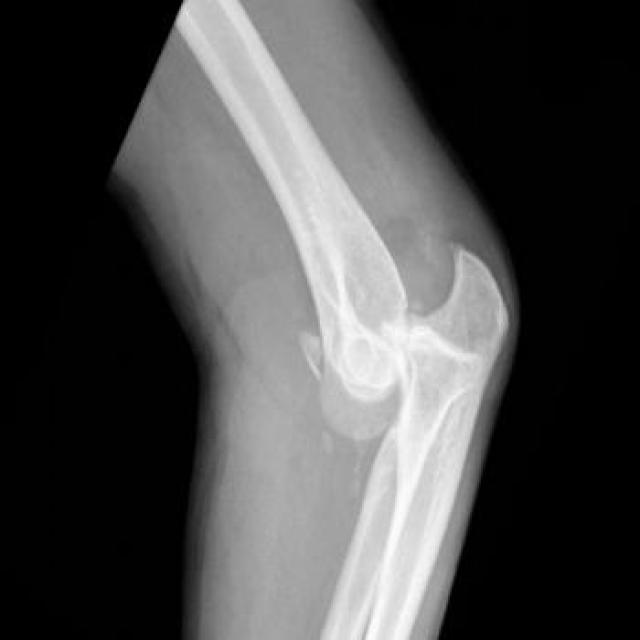Fracture: (386, 210, 463, 348)
